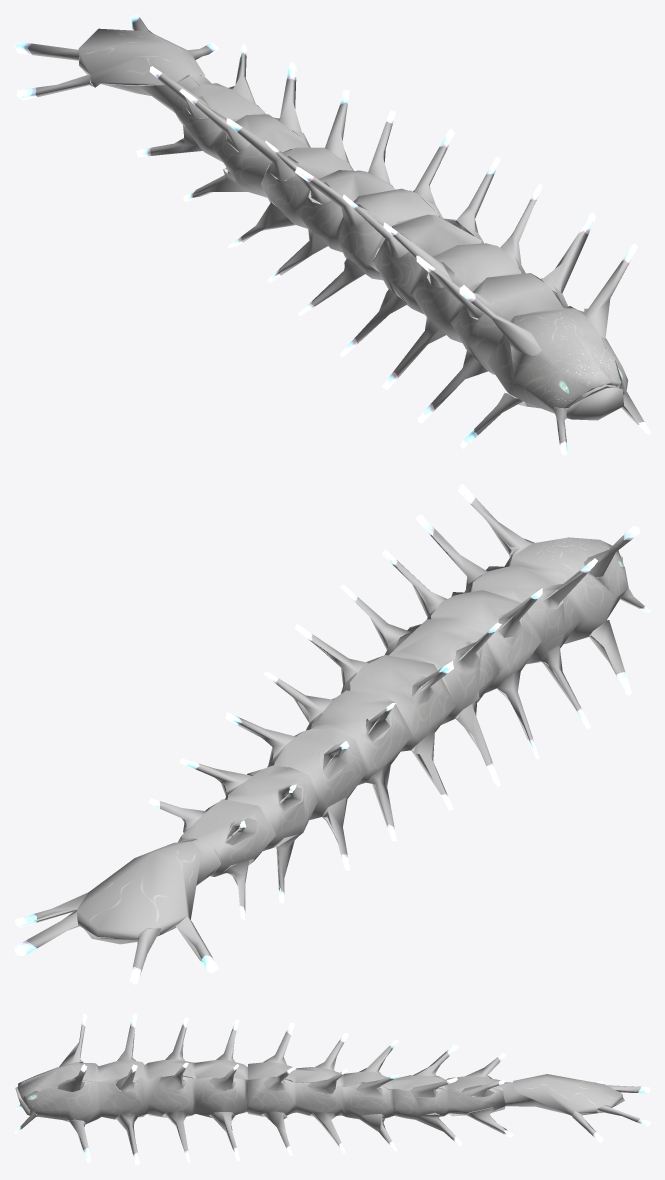
File: SpikeFish.fbx
3 views of the same model, one above another, from view 1: azimuth 30°, elevation 25°; view 2: azimuth 150°, elevation 25°; view 3: azimuth 270°, elevation 25° (orthographic). The views are drawn at different scales.
Visible parts, largest first — view 1: object_0; view 2: object_0; view 3: object_0.
Part boxes in pixels (left/top/right/bottom): object_0: left=14, top=14, right=650, bottom=455; object_0: left=14, top=484, right=650, bottom=984; object_0: left=14, top=1013, right=650, bottom=1165.
Size of the model in its own units: 150 by 123 by 692.
